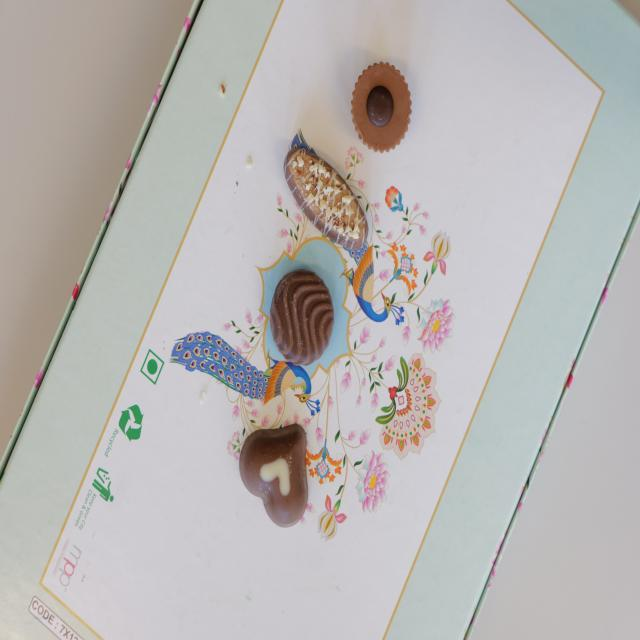Amandina: (284, 146, 370, 254)
Noblesse: (353, 61, 410, 149)
Noir_authentique: (273, 266, 334, 365)
Passion_au_lait: (241, 422, 310, 528)
